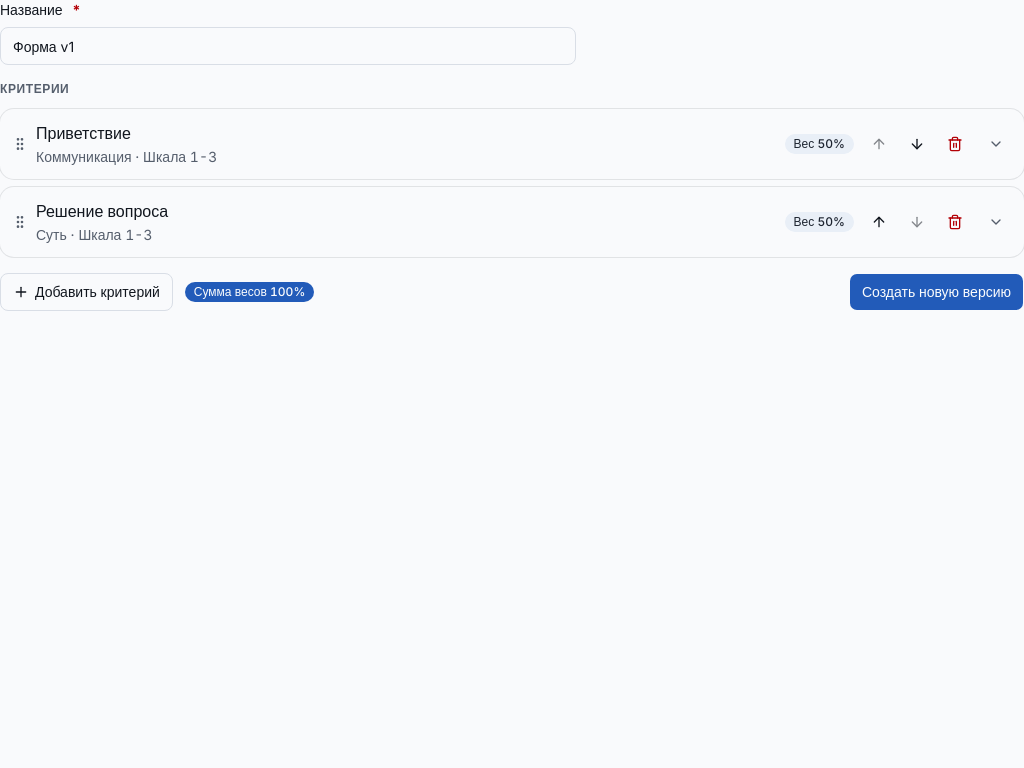
Scenario: scorecard version form destructive actions › keeps the criterion when the deletion confirm is dismissed
Click the 1st button titled "Удалить" at (955, 144), box x1=938 y1=127 x2=972 y2=161
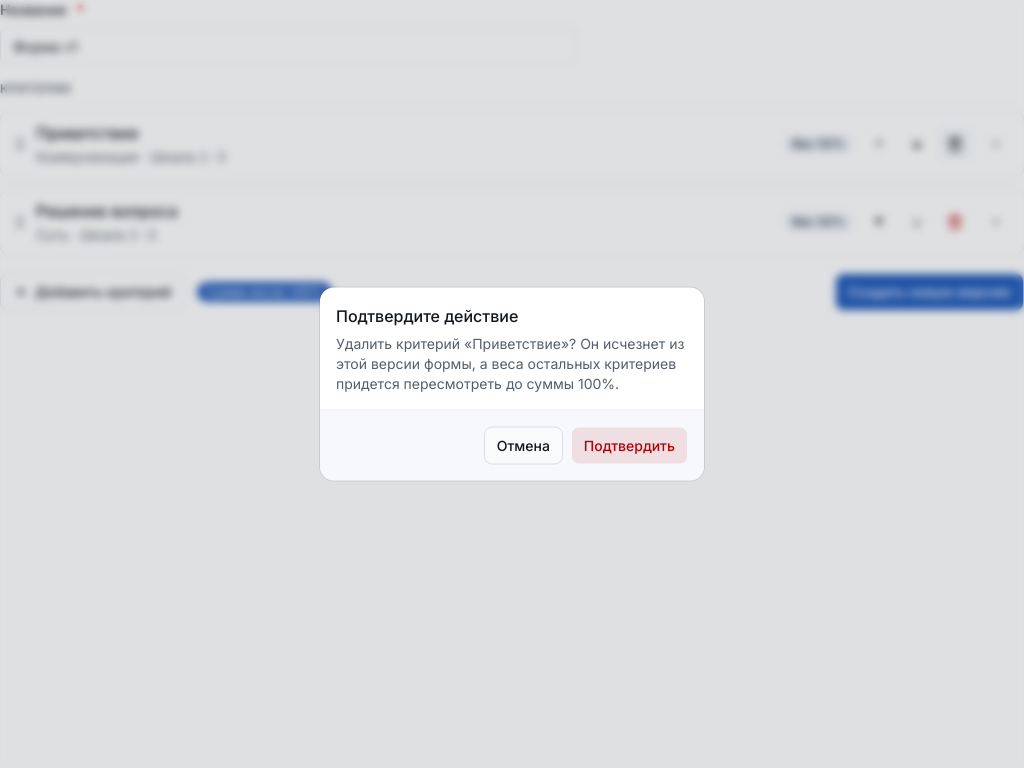
Check: the text "Удалить критерий «Приветствие»?" is shown, box x1=336 y1=334 x2=684 y2=392
Click the button "Отмена" at (523, 446), box x1=484 y1=426 x2=563 y2=464
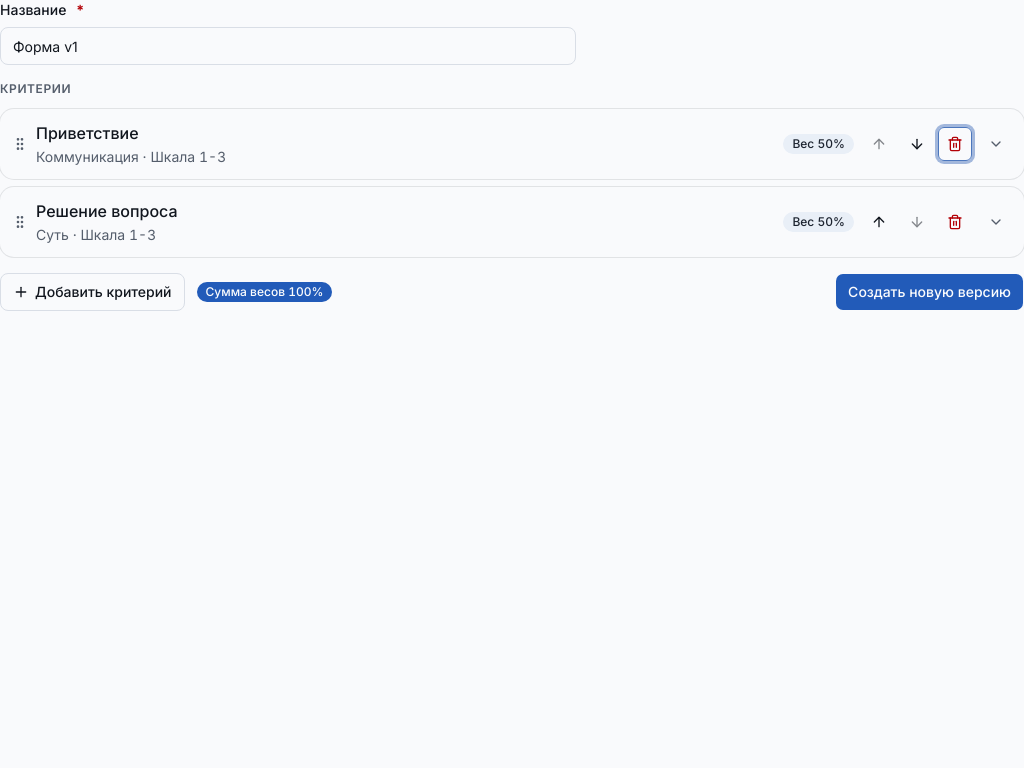
Check: the text "Приветствие" is shown, box x1=36 y1=123 x2=139 y2=143
Check: the dialog is gone
Check: the number of buttons titled "Удалить" is 2, box x1=938 y1=127 x2=972 y2=161; x1=938 y1=205 x2=972 y2=239
